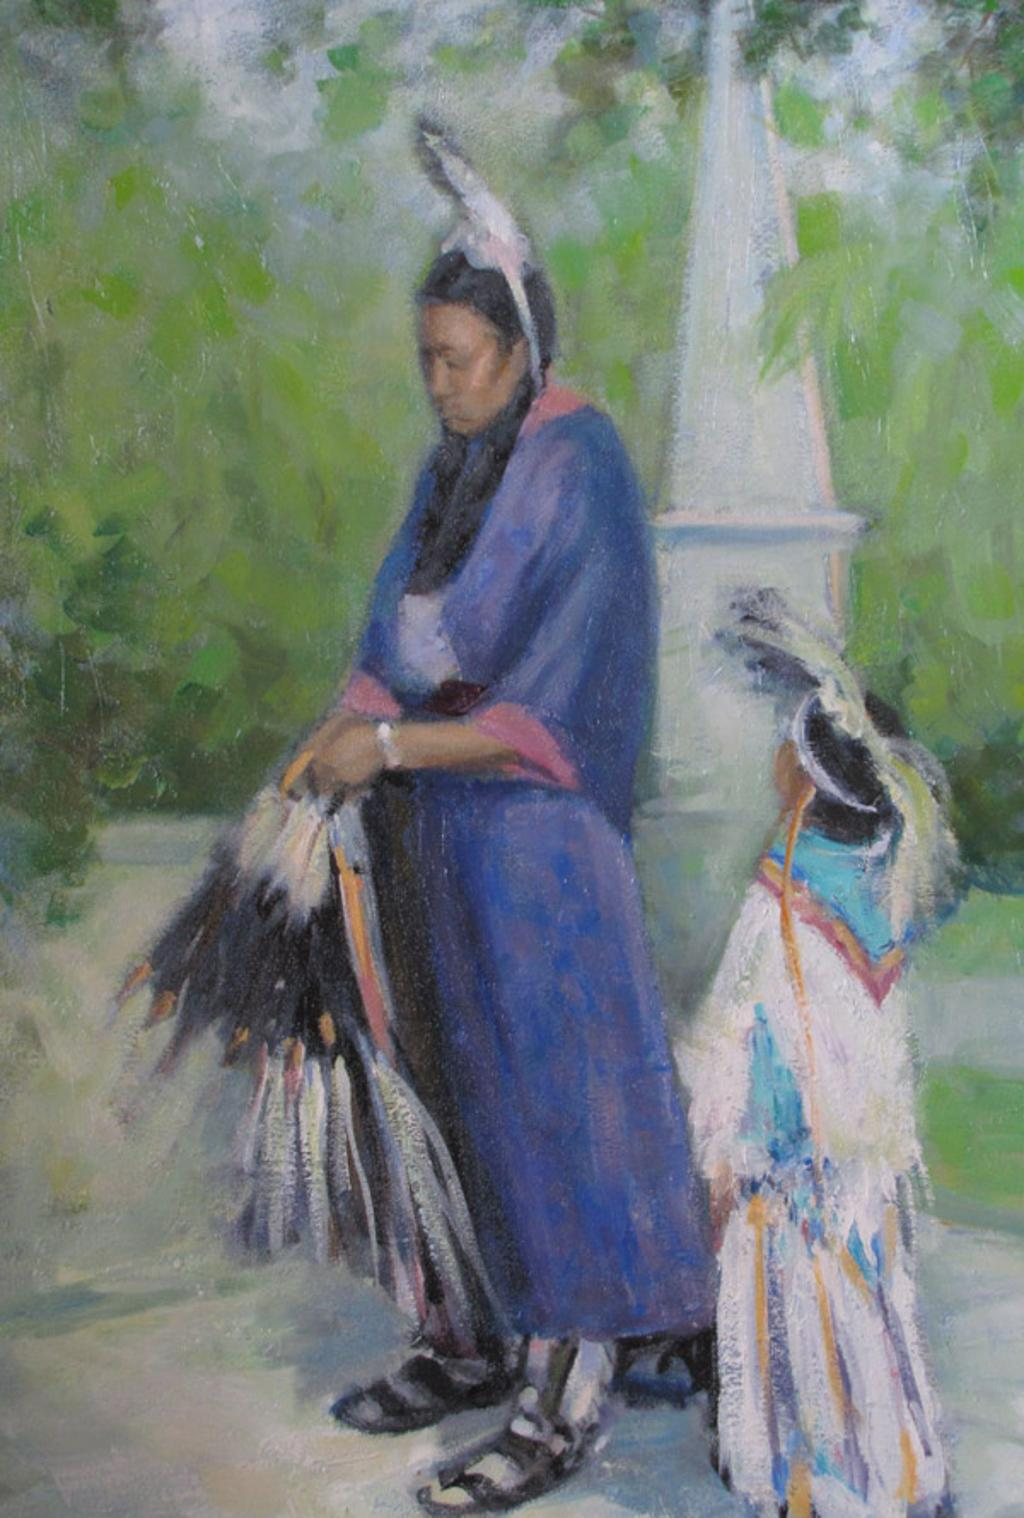face: (418, 300, 519, 427)
